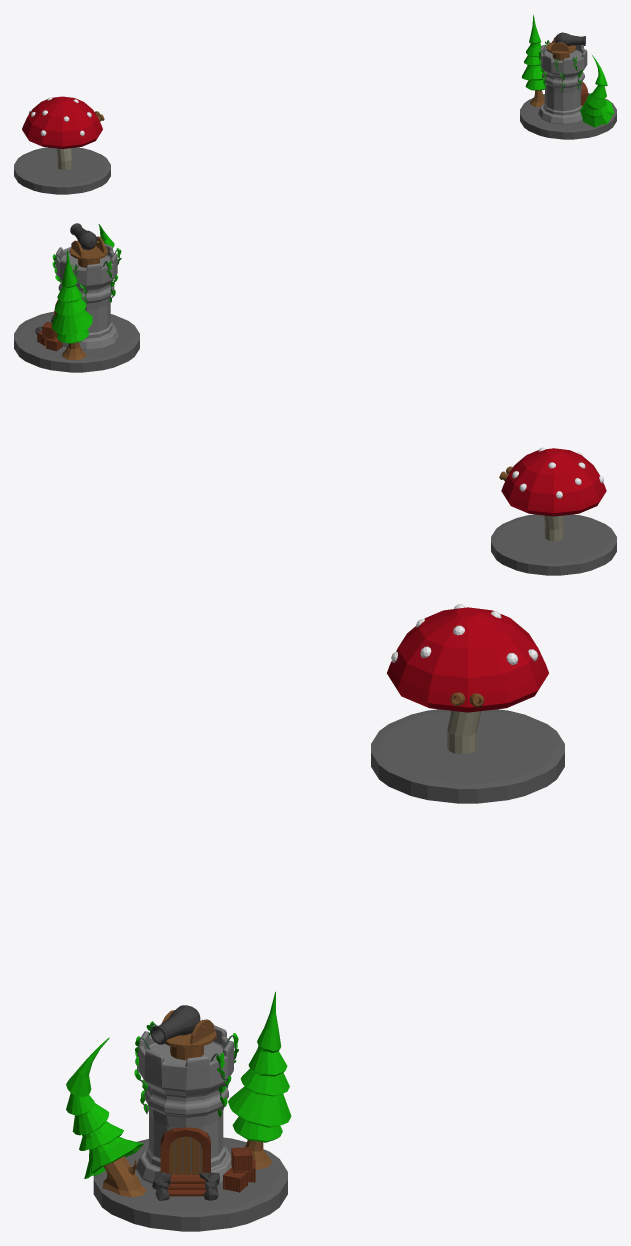
Rendered from defence_Nam_1.fbx.
3 views of the same model, one above another, from view 1: azimuth 30°, elevation 25°; view 2: azimuth 150°, elevation 25°; view 3: azimuth 270°, elevation 25° (orthographic). The views are drawn at different scales.
Parts seen in each view (by area): view 1: Turret_1_Level_5_Base, Turret_2_Level_1_Base, Turret_2_Level_1_Weapon, Turret_1_Level_5_Weapon; view 2: Turret_1_Level_5_Base, Turret_2_Level_1_Base, Turret_2_Level_1_Weapon, Turret_1_Level_5_Weapon; view 3: Turret_1_Level_5_Base, Turret_2_Level_1_Base, Turret_2_Level_1_Weapon, Turret_1_Level_5_Weapon.
Boxes of the visible parts, x1,y1,x2,y2 form: Turret_1_Level_5_Base: [520, 14, 616, 139]; Turret_2_Level_1_Base: [14, 147, 110, 194]; Turret_2_Level_1_Weapon: [22, 96, 104, 148]; Turret_1_Level_5_Weapon: [546, 32, 585, 60]; Turret_1_Level_5_Base: [14, 224, 139, 372]; Turret_2_Level_1_Base: [491, 514, 616, 575]; Turret_2_Level_1_Weapon: [499, 447, 606, 516]; Turret_1_Level_5_Weapon: [69, 223, 107, 267]; Turret_1_Level_5_Base: [66, 991, 291, 1231]; Turret_2_Level_1_Base: [371, 709, 564, 803]; Turret_2_Level_1_Weapon: [387, 604, 548, 712]; Turret_1_Level_5_Weapon: [150, 1005, 216, 1060].
Size of the model in its own units: 2385 by 407 by 990.
